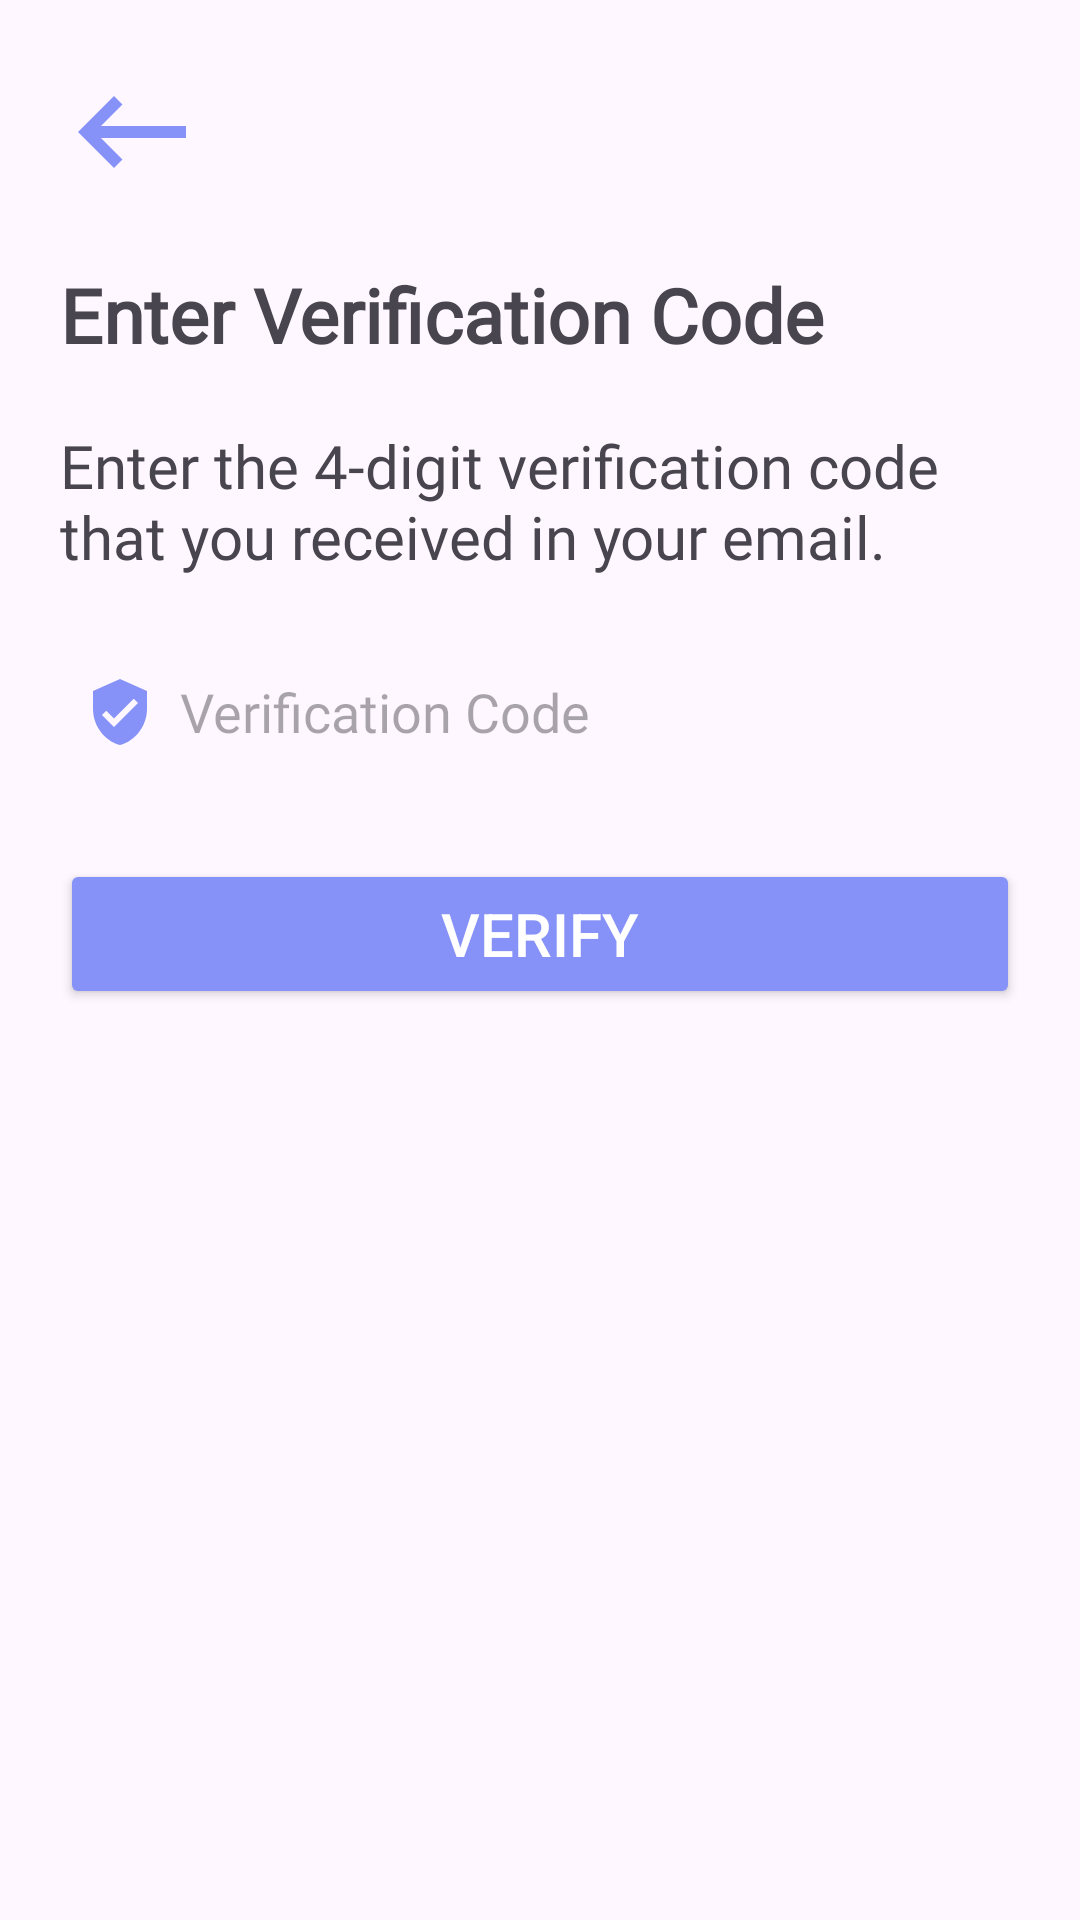

Point at icon controls on the screen. Image size 1080×1920, points as (x,y).
back: (132,132)
